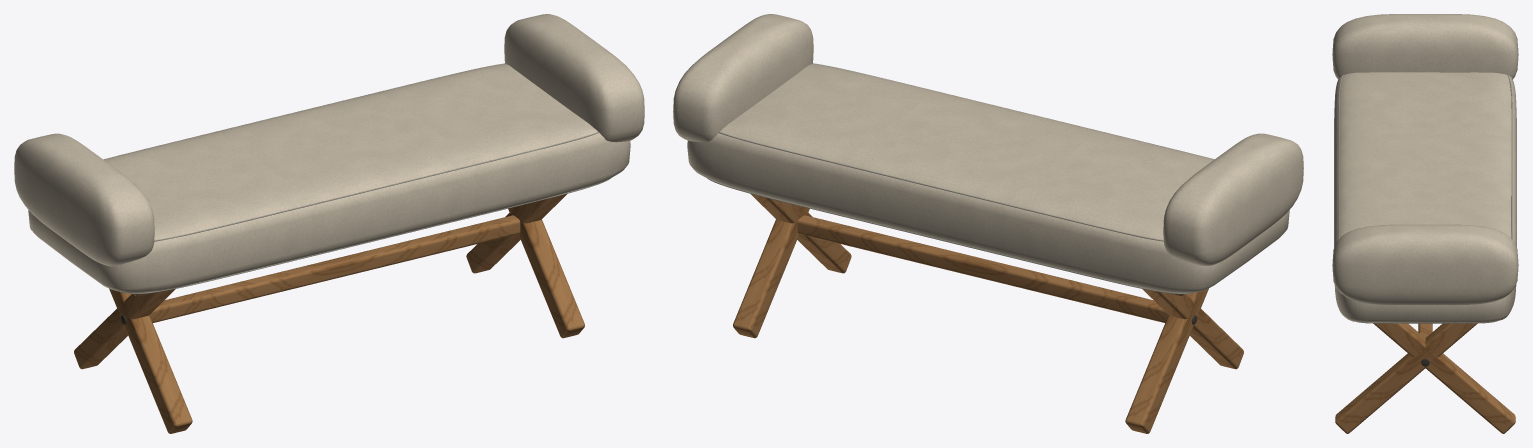
3 views of the same model, side by side, from view 1: azimuth 30°, elevation 25°; view 2: azimuth 150°, elevation 25°; view 3: azimuth 270°, elevation 25° (orthographic). The views are drawn at different scales.
Parts seen in each view (by area): view 1: Boucle | thick continuous upholstered seat, Boucle | raised end bolster, Boucle | raised end bolster.001, Oak | connecting stretcher, Oak | crossed trestle A, Oak | crossed trestle A.001, Oak | crossed trestle B, Oak | crossed trestle B.001, Boucle | thick continuous upholstered seat | upper tailored , Boucle | thick continuous upholstered seat | lower tailored ; view 2: Boucle | thick continuous upholstered seat, Boucle | raised end bolster, Boucle | raised end bolster.001, Oak | connecting stretcher, Oak | crossed trestle B, Oak | crossed trestle B.001, Oak | crossed trestle A, Oak | crossed trestle A.001, Boucle | thick continuous upholstered seat | upper tailored , Boucle | thick continuous upholstered seat | lower tailored ; view 3: Boucle | thick continuous upholstered seat, Boucle | raised end bolster.001, Boucle | raised end bolster, Oak | crossed trestle A.001, Oak | crossed trestle B.001, Boucle | thick continuous upholstered seat | upper tailored .
Boxes of the visible parts, x1,y1,x2,y2 form: Boucle | thick continuous upholstered seat: (28, 64, 630, 293); Boucle | raised end bolster: (14, 133, 154, 266); Boucle | raised end bolster.001: (504, 14, 644, 142); Oak | connecting stretcher: (149, 215, 520, 322); Oak | crossed trestle A: (109, 288, 192, 433); Oak | crossed trestle A.001: (508, 206, 584, 338); Oak | crossed trestle B: (74, 289, 175, 369); Oak | crossed trestle B.001: (466, 193, 567, 273); Boucle | thick continuous upholstered seat | upper tailored : (103, 63, 599, 241); Boucle | thick continuous upholstered seat | lower tailored : (122, 178, 610, 294); Boucle | thick continuous upholstered seat: (687, 64, 1289, 293); Boucle | raised end bolster: (1163, 133, 1303, 265); Boucle | raised end bolster.001: (673, 14, 813, 142); Oak | connecting stretcher: (797, 215, 1168, 322); Oak | crossed trestle B: (1125, 288, 1208, 433); Oak | crossed trestle B.001: (733, 206, 809, 338); Oak | crossed trestle A: (1142, 289, 1243, 369); Oak | crossed trestle A.001: (750, 193, 851, 273); Boucle | thick continuous upholstered seat | upper tailored : (718, 63, 1214, 241); Boucle | thick continuous upholstered seat | lower tailored : (707, 178, 1191, 294); Boucle | thick continuous upholstered seat: (1334, 72, 1516, 323); Boucle | raised end bolster.001: (1332, 224, 1518, 305); Boucle | raised end bolster: (1332, 14, 1518, 79); Oak | crossed trestle A.001: (1335, 323, 1477, 433); Oak | crossed trestle B.001: (1373, 323, 1515, 433); Boucle | thick continuous upholstered seat | upper tailored : (1338, 75, 1512, 239).
Bounding box in the file's own units: 1.51 × 0.6748 × 0.51.
Materials: 4 (2 with a texture image).
